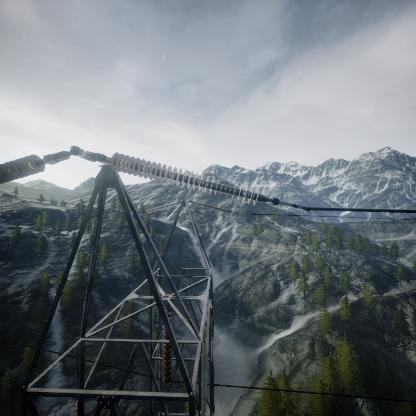insulator: (93, 151, 270, 206), (162, 320, 172, 387)
